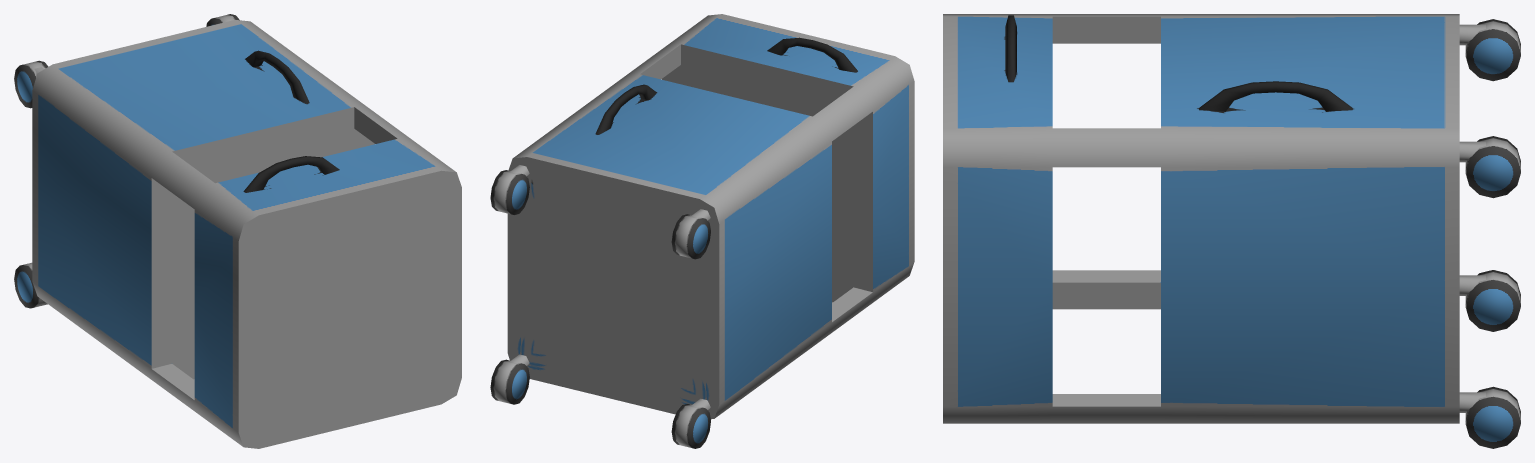
Rendered from BedsideTable.obj.
3 views of the same model, side by side, from view 1: azimuth 30°, elevation 25°; view 2: azimuth 150°, elevation 25°; view 3: azimuth 270°, elevation 25° (orthographic). The views are drawn at different scales.
Visible parts, largest first — view 1: BedsideTable.001; view 2: BedsideTable.001; view 3: BedsideTable.001.
Boxes of the visible parts, x1,y1,x2,y2 form: BedsideTable.001: [14, 14, 461, 448]; BedsideTable.001: [490, 14, 914, 448]; BedsideTable.001: [943, 14, 1520, 448].
Bounding box in the file's own units: 0.5 × 0.5787 × 0.8949.
Materials: 1 (1 with a texture image).
